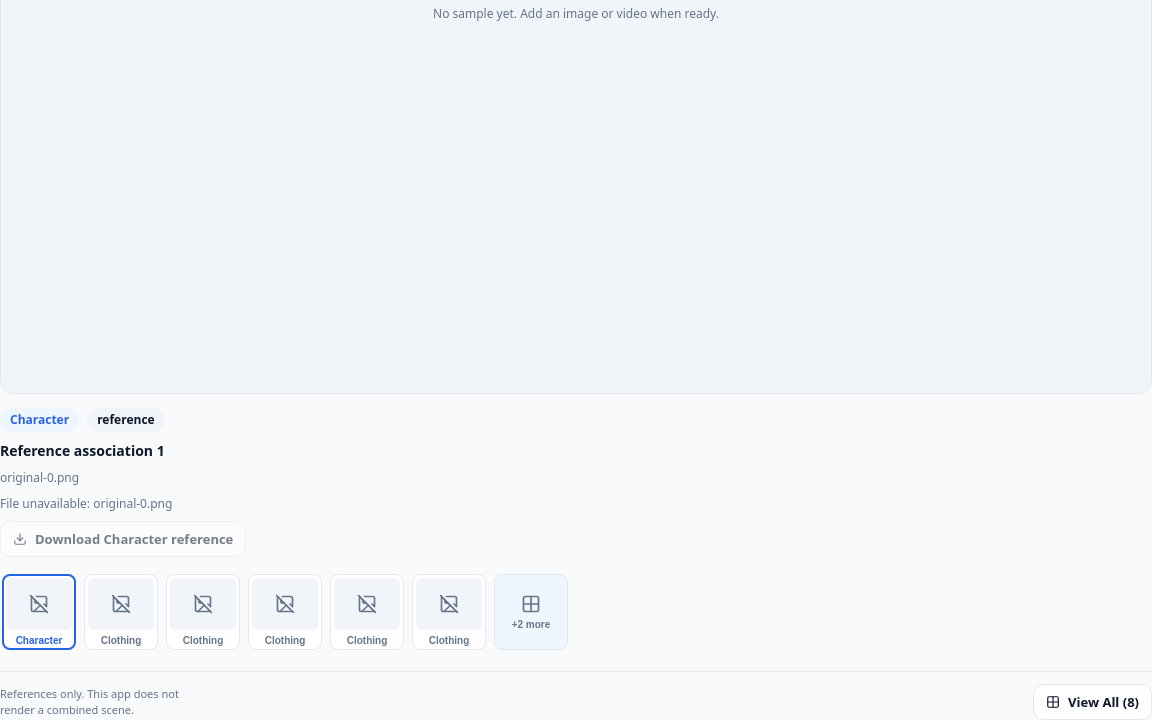
Scenario: Studio visual controls › shows every reference association in View All, including duplicate and missing blobs
The width and height of the screenshot is (1152, 720).
(page scrolled)
Click the button "View All (8)".
click(1093, 702)  # box top-left (1033, 684), bottom-right (1151, 719)
(page scrolled)
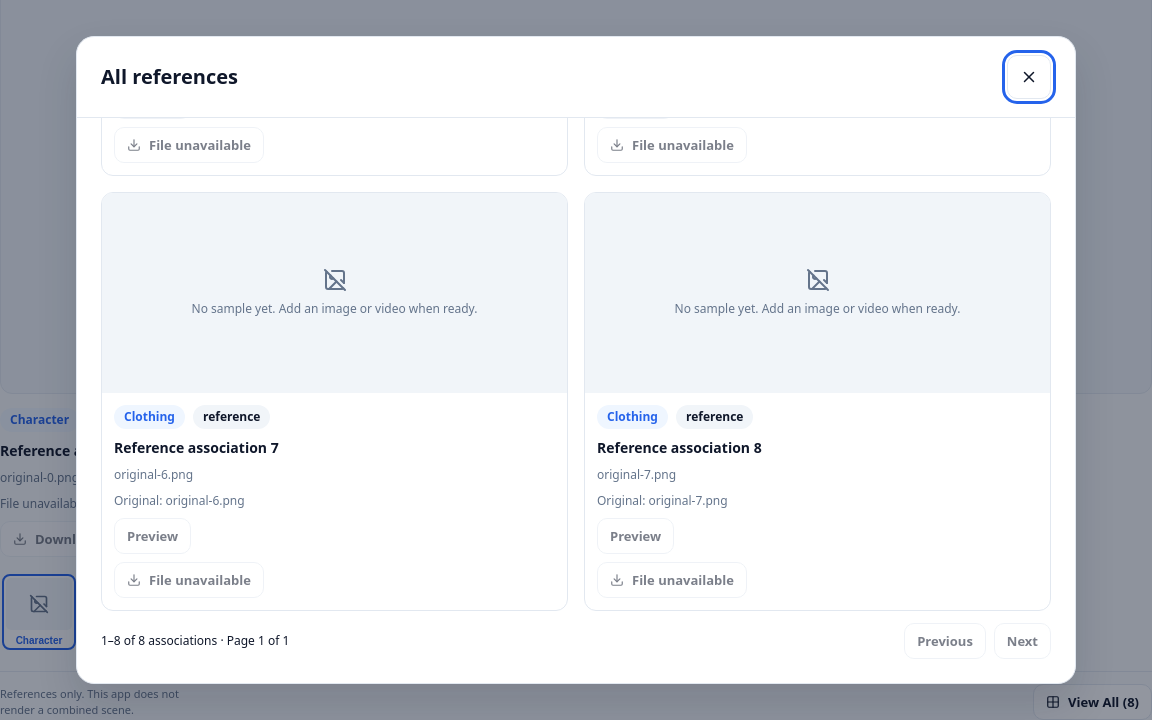
expect the text "original-7.png" is shown: met, box top-left (597, 466), bottom-right (676, 484)
expect the number of buttons "Download" is 8: met
expect the button with aria-label "Download" is disabled: met, box top-left (114, 127), bottom-right (264, 163)
